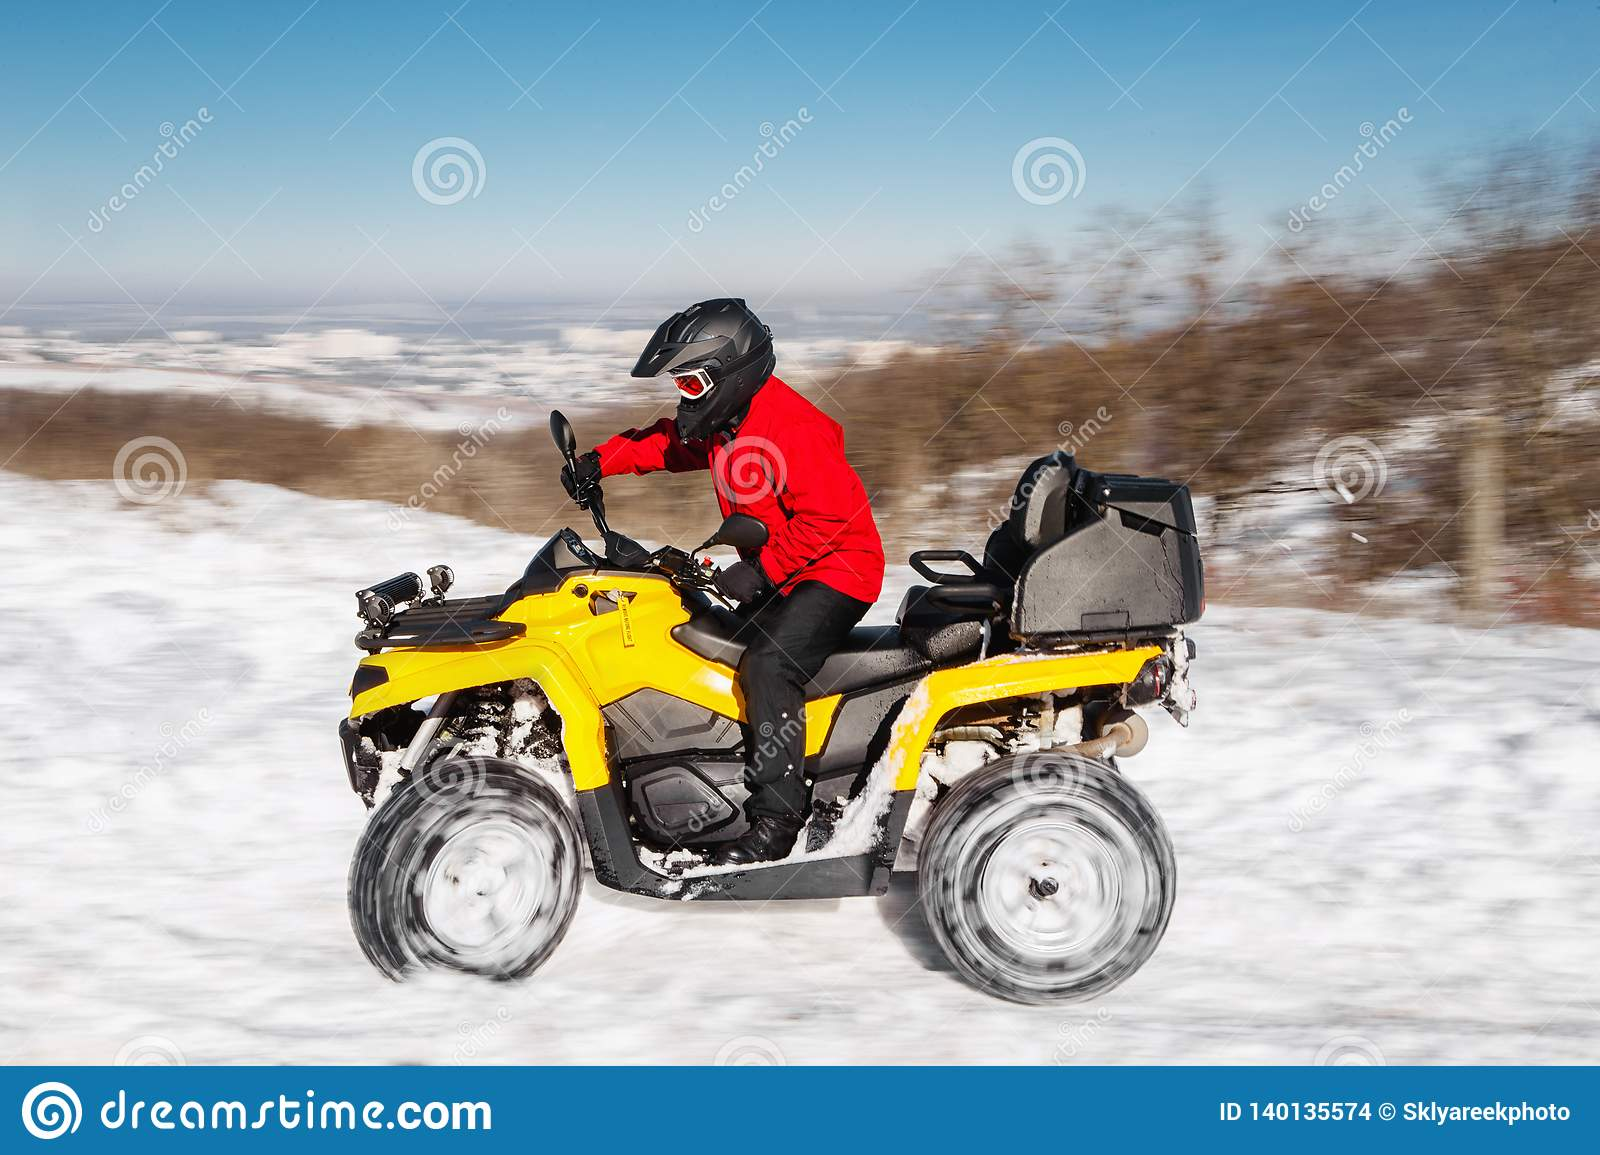helmet: (650, 299, 775, 426)
